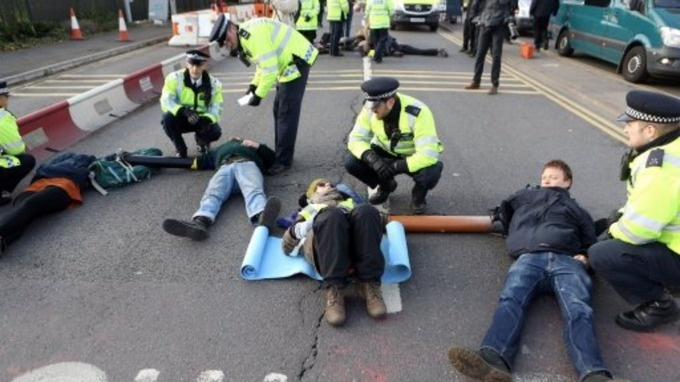falling: (264, 169, 411, 333)
